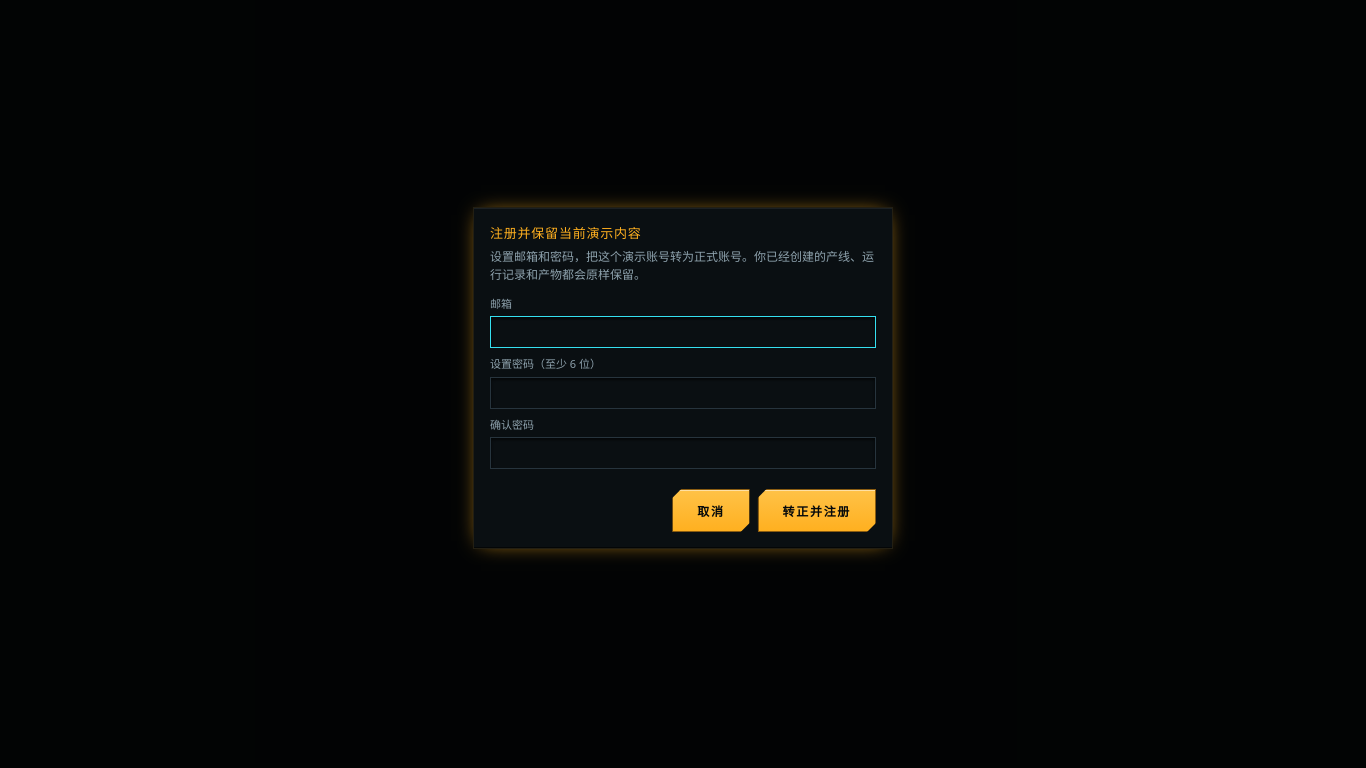
ClaimDialog › 两次密码不一致时拦截且不发请求
Type "me@x.dev" into the field labelled "邮箱". click: (683, 332)
box: [490,316,876,348]
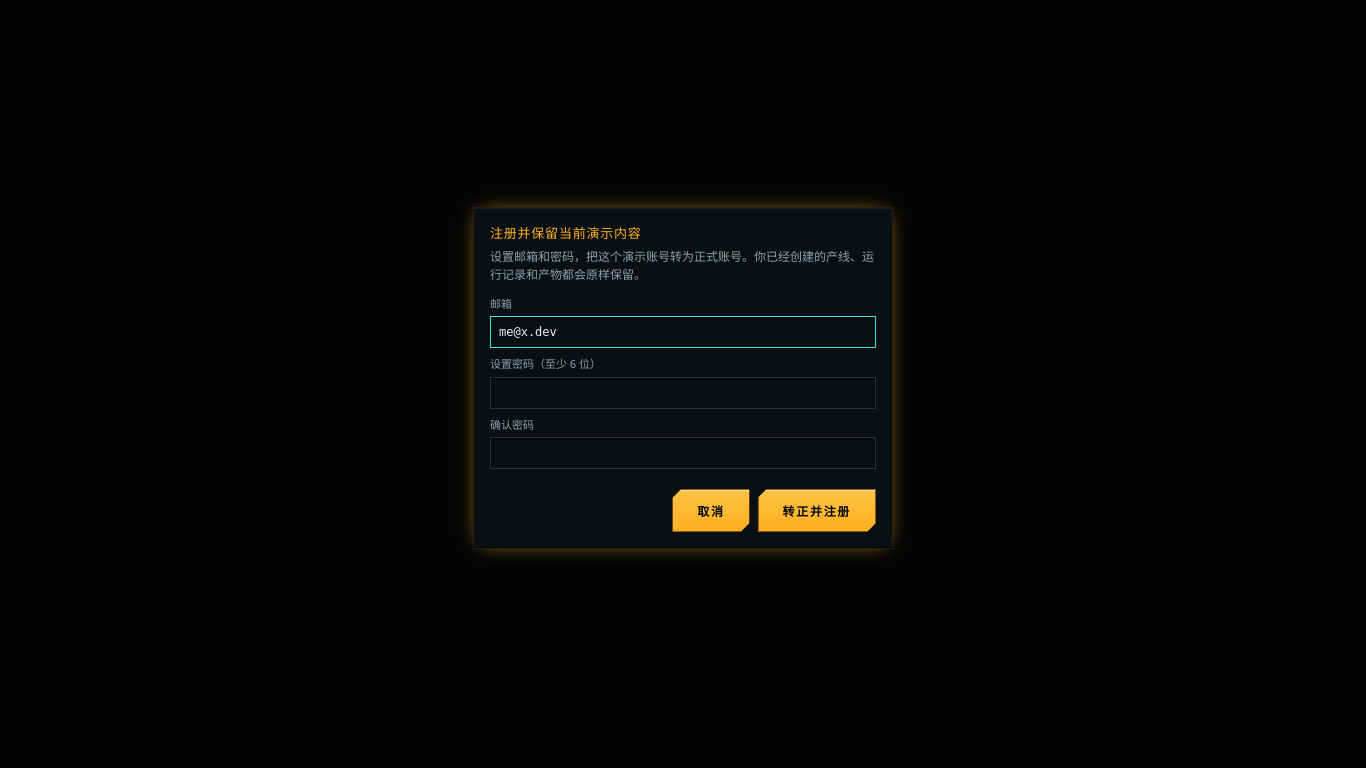
Type "secret123" into the password field labelled "设置密码（至少 6 位）". click: (683, 392)
box: [490,376,876,408]
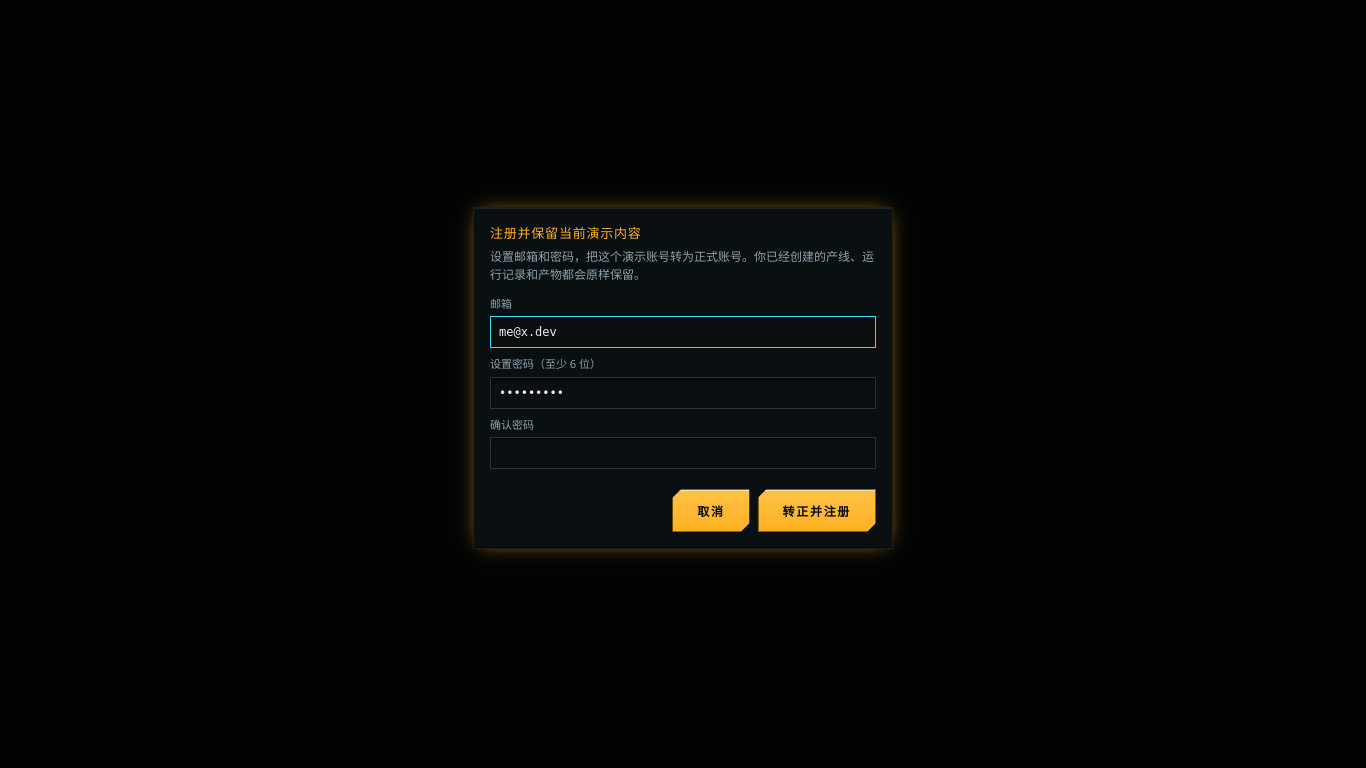
Type "different" into the password field labelled "确认密码". click: (683, 453)
box: [490,437,876,469]
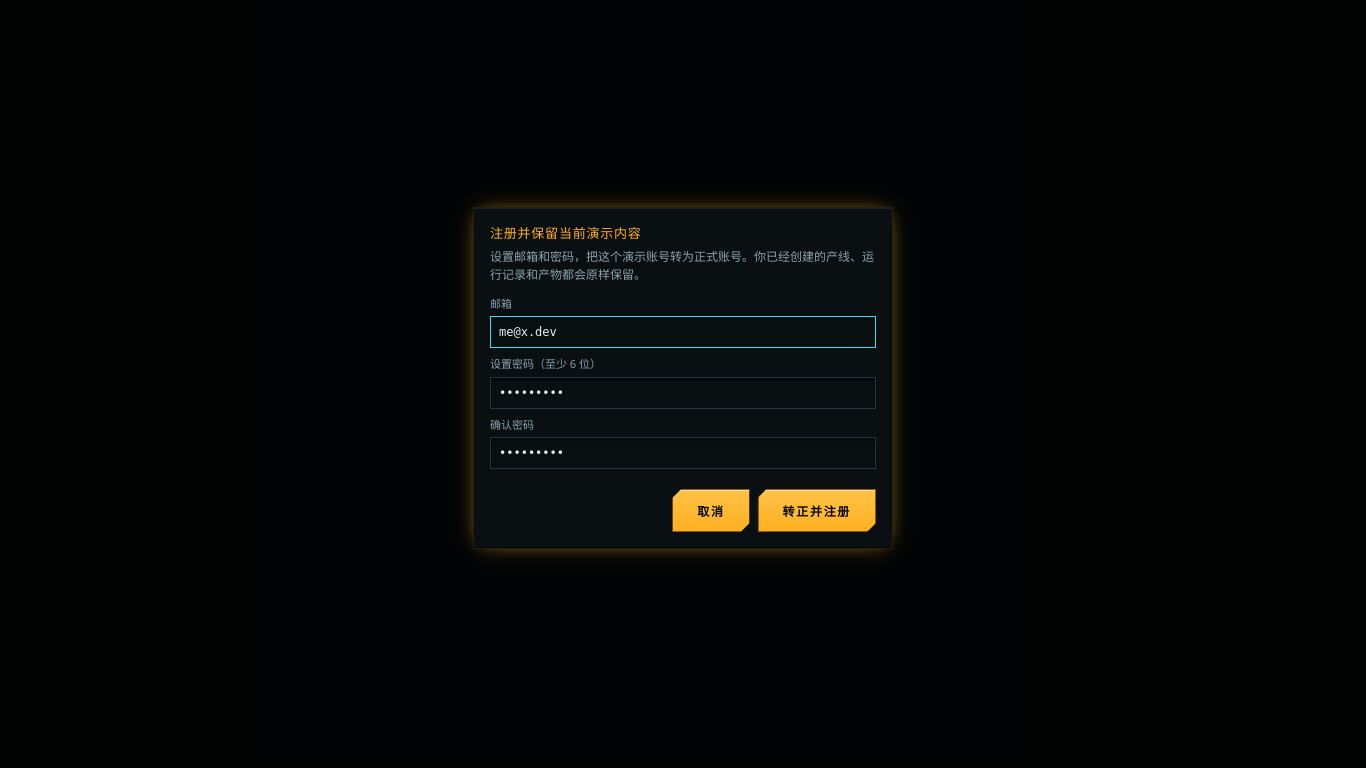
Click the button "转正并注册". click: (817, 510)
box: [758,489,876,532]
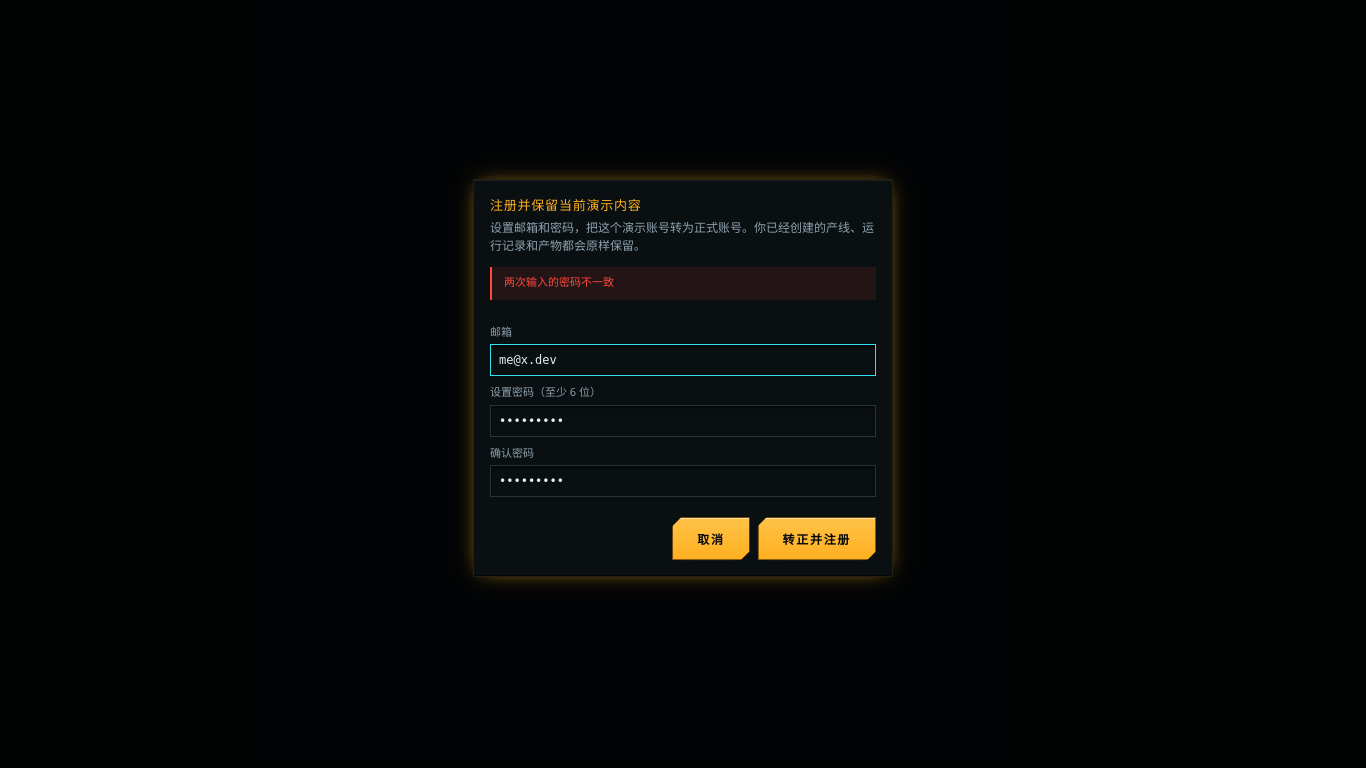
Expected: the text "两次输入的密码不一致" is shown, [490,267,876,300]
